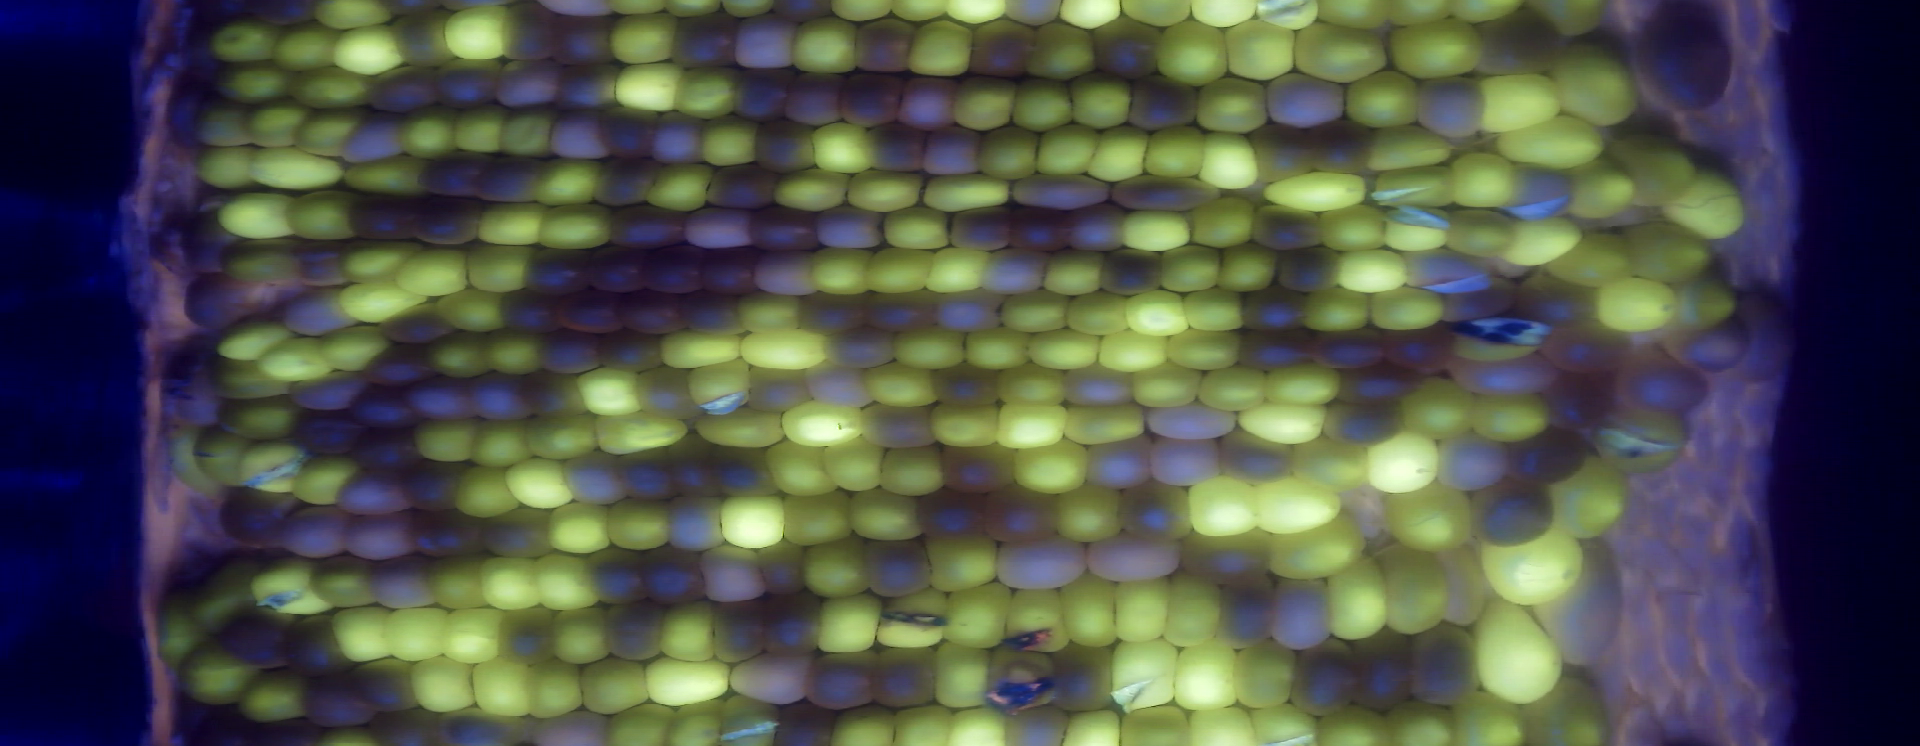fluorescent: (1464, 595, 1571, 710), (1477, 528, 1598, 606), (1370, 535, 1458, 641), (1544, 40, 1646, 131), (1260, 512, 1373, 586), (1515, 670, 1622, 746), (1596, 401, 1700, 479), (1375, 479, 1483, 552), (1489, 109, 1611, 173), (1289, 15, 1393, 89), (1607, 127, 1700, 211), (1384, 13, 1490, 86), (179, 552, 271, 635), (1614, 219, 1718, 288), (1548, 452, 1630, 539), (1658, 160, 1749, 236), (244, 552, 340, 624), (1321, 552, 1395, 644), (178, 636, 266, 712), (1588, 271, 1686, 338), (1469, 69, 1567, 136), (1104, 635, 1187, 713), (1245, 474, 1348, 537), (1167, 637, 1247, 717), (1217, 13, 1303, 86), (1393, 372, 1480, 443), (1153, 17, 1236, 92), (1153, 570, 1228, 652), (1180, 470, 1265, 543), (939, 579, 1018, 657), (1258, 167, 1378, 217), (999, 581, 1078, 657), (873, 582, 953, 657), (589, 404, 693, 461), (1053, 570, 1124, 652), (640, 650, 741, 708), (927, 635, 1000, 713), (242, 140, 347, 195), (840, 483, 928, 548), (1341, 64, 1429, 129), (921, 528, 1004, 597), (576, 653, 659, 722), (1464, 385, 1558, 446), (1558, 156, 1642, 223), (812, 587, 889, 660), (162, 423, 231, 503), (1359, 431, 1444, 497), (1444, 686, 1537, 746), (1229, 636, 1303, 712), (233, 435, 318, 500), (149, 586, 211, 676), (1289, 430, 1378, 492), (1020, 20, 1104, 85), (527, 548, 605, 617), (1547, 232, 1640, 290), (1051, 481, 1130, 550), (796, 535, 877, 603), (1499, 209, 1589, 269), (187, 419, 264, 489), (1104, 570, 1174, 647), (774, 393, 869, 450), (336, 236, 435, 290), (1431, 205, 1526, 261), (733, 323, 834, 376), (1191, 72, 1272, 137), (211, 187, 304, 244), (467, 650, 539, 723), (694, 404, 792, 457), (760, 437, 841, 501), (1365, 120, 1458, 175), (1439, 147, 1521, 209), (438, 1, 514, 69), (901, 16, 977, 83), (516, 407, 602, 465), (287, 105, 377, 162), (947, 71, 1024, 137), (1190, 127, 1267, 194), (923, 397, 1007, 458), (231, 665, 315, 726), (209, 390, 307, 441), (1064, 66, 1139, 134), (328, 20, 410, 81), (1011, 437, 1093, 499), (776, 489, 858, 550), (1005, 73, 1082, 138), (389, 243, 473, 303), (786, 15, 864, 78), (500, 451, 578, 514), (921, 167, 1018, 218), (1237, 394, 1329, 448), (655, 595, 722, 669), (520, 657, 594, 724), (804, 116, 879, 183), (545, 604, 620, 670), (251, 333, 337, 391), (409, 654, 485, 719), (287, 450, 369, 510), (302, 551, 384, 611), (860, 356, 947, 413), (451, 461, 529, 523), (602, 7, 682, 69), (462, 412, 541, 473), (206, 56, 298, 109), (375, 600, 451, 664), (1259, 358, 1348, 412), (435, 601, 507, 668), (285, 62, 376, 115), (818, 432, 891, 497), (714, 489, 789, 552), (1667, 272, 1742, 334), (531, 198, 617, 254), (264, 20, 344, 78), (284, 184, 358, 247), (474, 552, 547, 616), (876, 440, 951, 501), (888, 320, 976, 372), (609, 58, 686, 118), (996, 398, 1078, 454), (331, 278, 430, 325), (425, 549, 495, 615), (411, 412, 482, 477), (329, 601, 400, 666), (642, 157, 720, 216), (531, 154, 610, 213), (1033, 119, 1106, 183), (238, 96, 317, 153), (340, 152, 433, 201), (1060, 399, 1153, 448), (203, 16, 288, 70), (1127, 360, 1207, 416), (975, 122, 1044, 187), (1081, 122, 1152, 186), (684, 355, 756, 419), (992, 358, 1074, 413), (1367, 279, 1449, 334), (877, 200, 956, 256), (576, 363, 650, 423), (207, 356, 294, 408), (1374, 160, 1461, 212), (768, 164, 852, 217), (1160, 323, 1248, 374), (1116, 206, 1198, 260), (1188, 192, 1261, 252), (1379, 695, 1464, 746), (656, 323, 746, 372), (219, 236, 304, 288), (1139, 124, 1211, 184), (313, 323, 396, 376), (1296, 283, 1378, 336), (842, 167, 931, 216), (213, 318, 301, 367), (993, 287, 1076, 338), (544, 499, 616, 557), (1122, 285, 1195, 343), (1195, 360, 1273, 414), (1318, 202, 1396, 256), (694, 111, 763, 173), (670, 62, 740, 122), (600, 495, 670, 555), (1213, 239, 1284, 298), (460, 239, 531, 298), (962, 323, 1040, 377), (420, 328, 498, 381), (1380, 203, 1458, 256), (920, 244, 999, 295), (861, 244, 940, 295), (493, 99, 556, 164), (1309, 701, 1398, 746), (1093, 327, 1176, 376), (1038, 243, 1111, 298), (807, 240, 871, 303), (433, 285, 512, 336), (1026, 326, 1102, 377), (397, 100, 460, 162), (444, 99, 508, 160), (190, 143, 269, 192), (1247, 697, 1326, 746), (475, 326, 549, 379), (729, 288, 809, 336), (189, 99, 260, 153), (1178, 282, 1249, 336), (474, 197, 546, 250), (1157, 241, 1226, 296), (1113, 702, 1199, 746), (713, 695, 785, 746), (1062, 288, 1131, 341), (1176, 704, 1264, 746), (662, 695, 733, 746), (825, 699, 901, 746), (602, 699, 677, 746), (887, 701, 959, 746), (1054, 704, 1128, 746), (942, 704, 1013, 746), (310, 1, 396, 36)
nonfluorescent: (1534, 538, 1630, 679), (1642, 1, 1739, 116), (1404, 619, 1491, 714), (1466, 477, 1566, 552), (1472, 7, 1567, 85), (1280, 635, 1362, 724), (1611, 352, 1716, 419), (977, 636, 1060, 718), (1080, 528, 1190, 589), (1044, 637, 1125, 720), (212, 481, 305, 554), (176, 268, 276, 336), (1179, 527, 1282, 592), (1533, 316, 1642, 377), (1735, 288, 1800, 390), (971, 479, 1065, 549), (211, 605, 298, 680), (1501, 425, 1597, 492), (988, 534, 1096, 593), (1347, 625, 1416, 717), (722, 646, 819, 710), (1539, 367, 1622, 442), (1262, 66, 1356, 132), (1089, 11, 1172, 85), (864, 641, 948, 714), (1113, 479, 1202, 546), (404, 500, 497, 563), (1447, 349, 1561, 401), (1210, 575, 1283, 654), (666, 4, 747, 76), (860, 533, 940, 605), (1495, 156, 1578, 225), (1664, 314, 1755, 377), (1412, 71, 1490, 145), (751, 589, 830, 661), (705, 439, 789, 507), (1435, 429, 1518, 497), (394, 192, 491, 251), (1265, 575, 1341, 649), (551, 443, 637, 510), (1104, 168, 1229, 213), (1206, 426, 1300, 486), (358, 552, 444, 617), (800, 646, 880, 715), (692, 540, 774, 609), (1138, 430, 1231, 490), (332, 507, 426, 566), (1393, 244, 1496, 298), (391, 450, 475, 514), (1300, 116, 1381, 184), (1120, 70, 1204, 135), (173, 207, 249, 278), (936, 442, 1027, 500), (280, 612, 360, 679), (1140, 398, 1247, 447), (639, 543, 713, 614), (287, 407, 378, 463), (277, 502, 361, 563), (1511, 268, 1596, 330), (340, 654, 426, 714), (1075, 432, 1160, 492), (476, 503, 561, 563), (458, 364, 538, 428), (911, 484, 991, 548), (961, 20, 1042, 82), (329, 464, 419, 521), (846, 13, 923, 78), (410, 147, 497, 205), (274, 283, 362, 339), (705, 597, 775, 668), (855, 399, 947, 453), (1433, 274, 1526, 327), (1011, 168, 1119, 213), (384, 6, 457, 73), (601, 597, 669, 669), (1245, 118, 1319, 184), (345, 186, 426, 246), (662, 430, 726, 506), (1431, 546, 1490, 628), (340, 426, 427, 481), (729, 12, 802, 77), (578, 543, 651, 608), (632, 363, 708, 425), (516, 363, 593, 424), (429, 702, 535, 746), (400, 370, 484, 426), (660, 491, 732, 556), (834, 69, 909, 131), (1319, 399, 1409, 451), (295, 677, 381, 731), (612, 443, 683, 508), (433, 54, 513, 111), (371, 299, 464, 348), (1247, 198, 1327, 255), (677, 200, 762, 254), (467, 148, 547, 205), (796, 359, 880, 413), (334, 110, 411, 169), (921, 361, 1009, 413), (1379, 321, 1464, 374), (744, 361, 820, 420), (530, 323, 611, 379), (645, 107, 716, 169), (891, 72, 964, 134), (853, 121, 932, 178), (689, 243, 763, 303), (584, 156, 667, 208), (611, 285, 694, 338), (495, 1, 560, 69), (596, 100, 669, 160), (601, 202, 694, 249), (816, 326, 909, 372), (699, 159, 778, 214), (749, 246, 828, 301), (633, 240, 708, 298), (1059, 359, 1142, 410), (1000, 200, 1076, 256), (861, 285, 943, 337), (285, 367, 378, 413), (1333, 361, 1427, 407), (779, 70, 846, 132), (541, 107, 611, 167), (1092, 245, 1168, 300), (748, 118, 820, 175), (523, 243, 595, 300), (792, 288, 869, 342), (1232, 325, 1319, 372), (362, 62, 447, 111), (580, 243, 654, 299), (355, 337, 440, 386), (806, 203, 888, 254), (675, 285, 751, 339), (550, 284, 627, 337), (164, 75, 214, 156), (746, 205, 827, 255), (1311, 323, 1392, 374), (545, 16, 620, 70), (978, 244, 1053, 298), (727, 66, 792, 127), (520, 706, 618, 746), (491, 55, 562, 110), (589, 325, 669, 374), (754, 538, 816, 601), (945, 203, 1018, 257), (917, 121, 984, 179), (1269, 243, 1343, 294), (343, 383, 422, 431), (1060, 201, 1130, 255), (998, 699, 1078, 746), (765, 699, 845, 746), (1239, 283, 1313, 333), (931, 288, 1008, 336), (495, 285, 564, 338), (287, 236, 358, 288), (362, 704, 449, 746), (552, 61, 623, 111), (174, 371, 228, 432), (181, 28, 229, 96), (238, 1, 318, 33), (189, 1, 249, 32)
